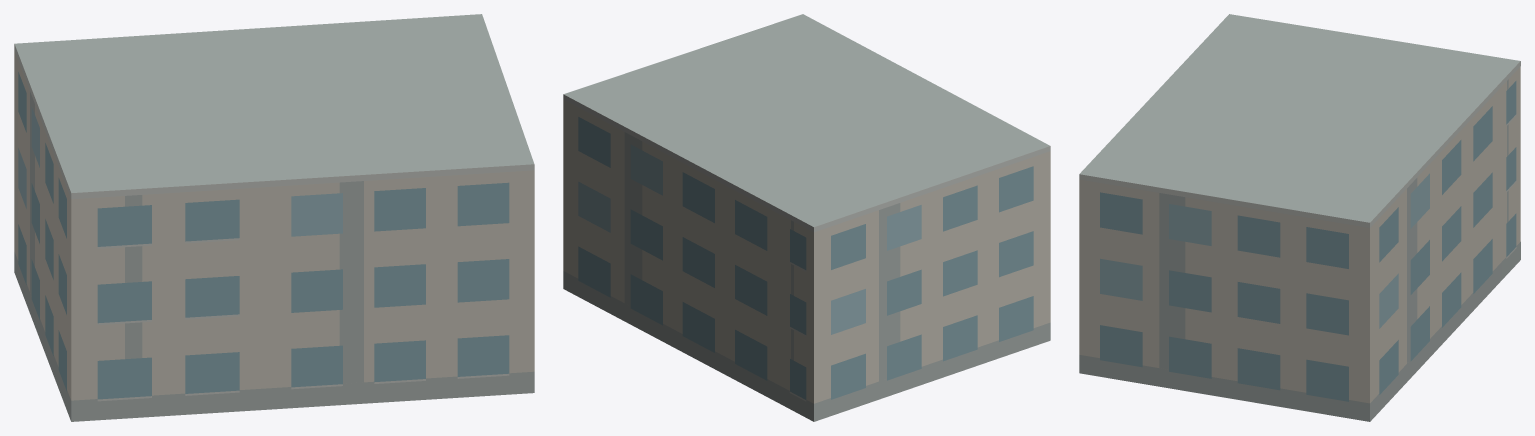
Rendered from survey-upis-32531252.glb.
3 renders of one model, left to right at view 1: azimuth 30°, elevation 25°; view 2: azimuth 150°, elevation 25°; view 3: azimuth 270°, elevation 25°, orthographic. The views are drawn at different scales.
Visible parts, largest first — view 1: survey-upis-32531252.tmp; view 2: survey-upis-32531252.tmp; view 3: survey-upis-32531252.tmp.
Part boxes in pixels (x1,y1,x2,y2): survey-upis-32531252.tmp: (14, 14, 534, 421); survey-upis-32531252.tmp: (563, 14, 1050, 421); survey-upis-32531252.tmp: (1079, 14, 1520, 421).
Size of the model in its own units: 20.59 by 9.15 by 18.4.
